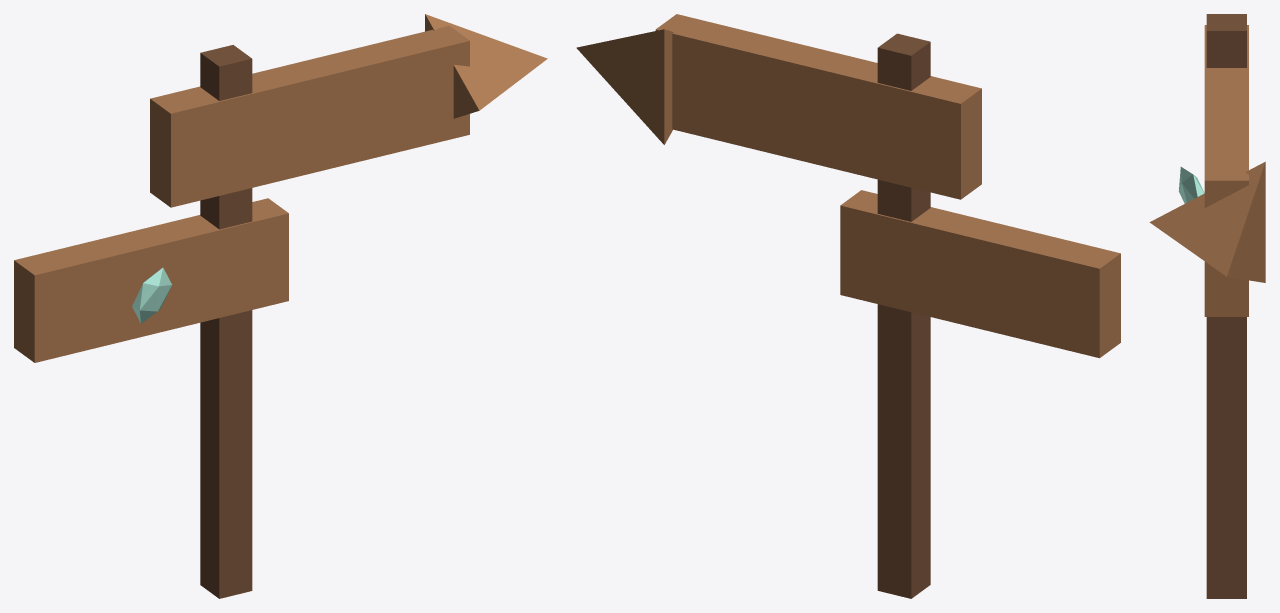
Rendered from rozcestnik.glb.
The picture shows the model from 3 angles, left to right: view 1: azimuth 30°, elevation 25°; view 2: azimuth 150°, elevation 25°; view 3: azimuth 270°, elevation 25°; orthographic projection. The views are drawn at different scales.
Parts seen in each view (by area): view 1: material_ad7950, material_785239, material_b1f0df; view 2: material_ad7950, material_785239; view 3: material_ad7950, material_785239, material_b1f0df.
Boxes of the visible parts, left/top/right/bottom form: material_ad7950: left=14, top=14, right=547, bottom=362; material_785239: left=200, top=45, right=252, bottom=598; material_b1f0df: left=132, top=267, right=171, bottom=323; material_ad7950: left=576, top=14, right=1120, bottom=358; material_785239: left=877, top=33, right=930, bottom=598; material_ad7950: left=1149, top=25, right=1265, bottom=316; material_785239: left=1206, top=14, right=1246, bottom=598; material_b1f0df: left=1178, top=167, right=1204, bottom=203.
Bounding box in the file's own units: 1.75 × 1.7 × 0.315.
